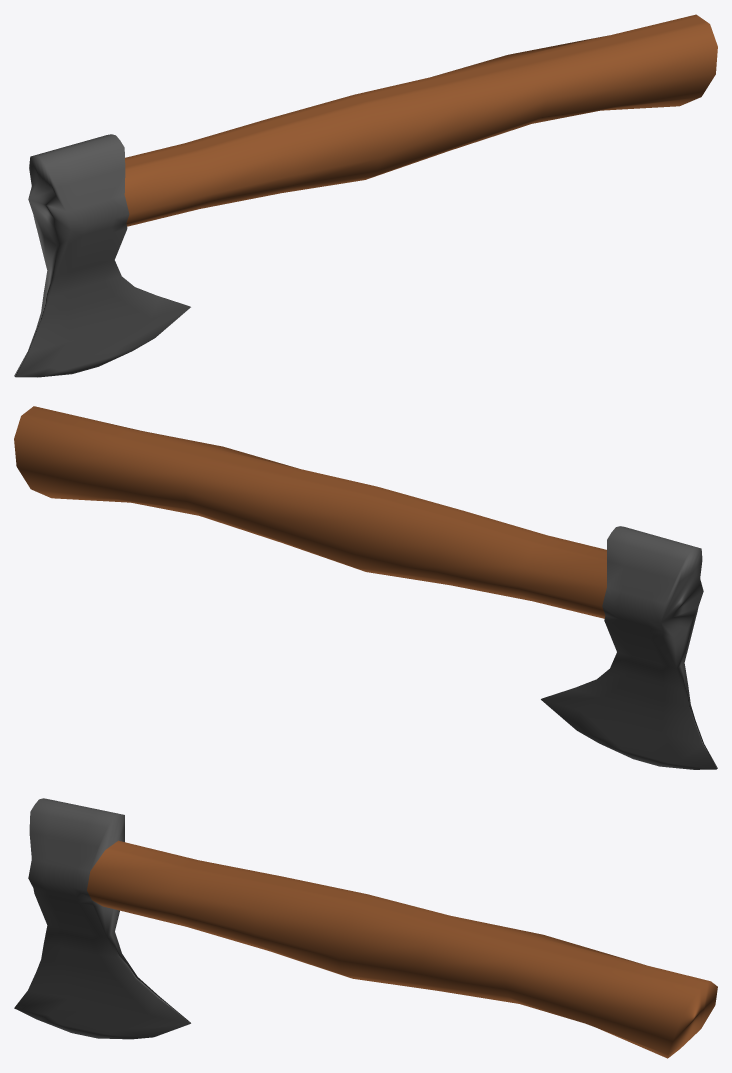
File: axt.fbx
3 views of the same model, one above another, from view 1: azimuth 30°, elevation 25°; view 2: azimuth 150°, elevation 25°; view 3: azimuth 330°, elevation 25° (orthographic).
Parts seen in each view (by area): view 1: Axt; view 2: Axt; view 3: Axt.
Part boxes in pixels (x1,y1,x2,y2): Axt: [14, 14, 717, 377]; Axt: [14, 406, 717, 769]; Axt: [14, 798, 717, 1058].
Size of the model in its own units: 59.8 by 18.89 by 6.44.
